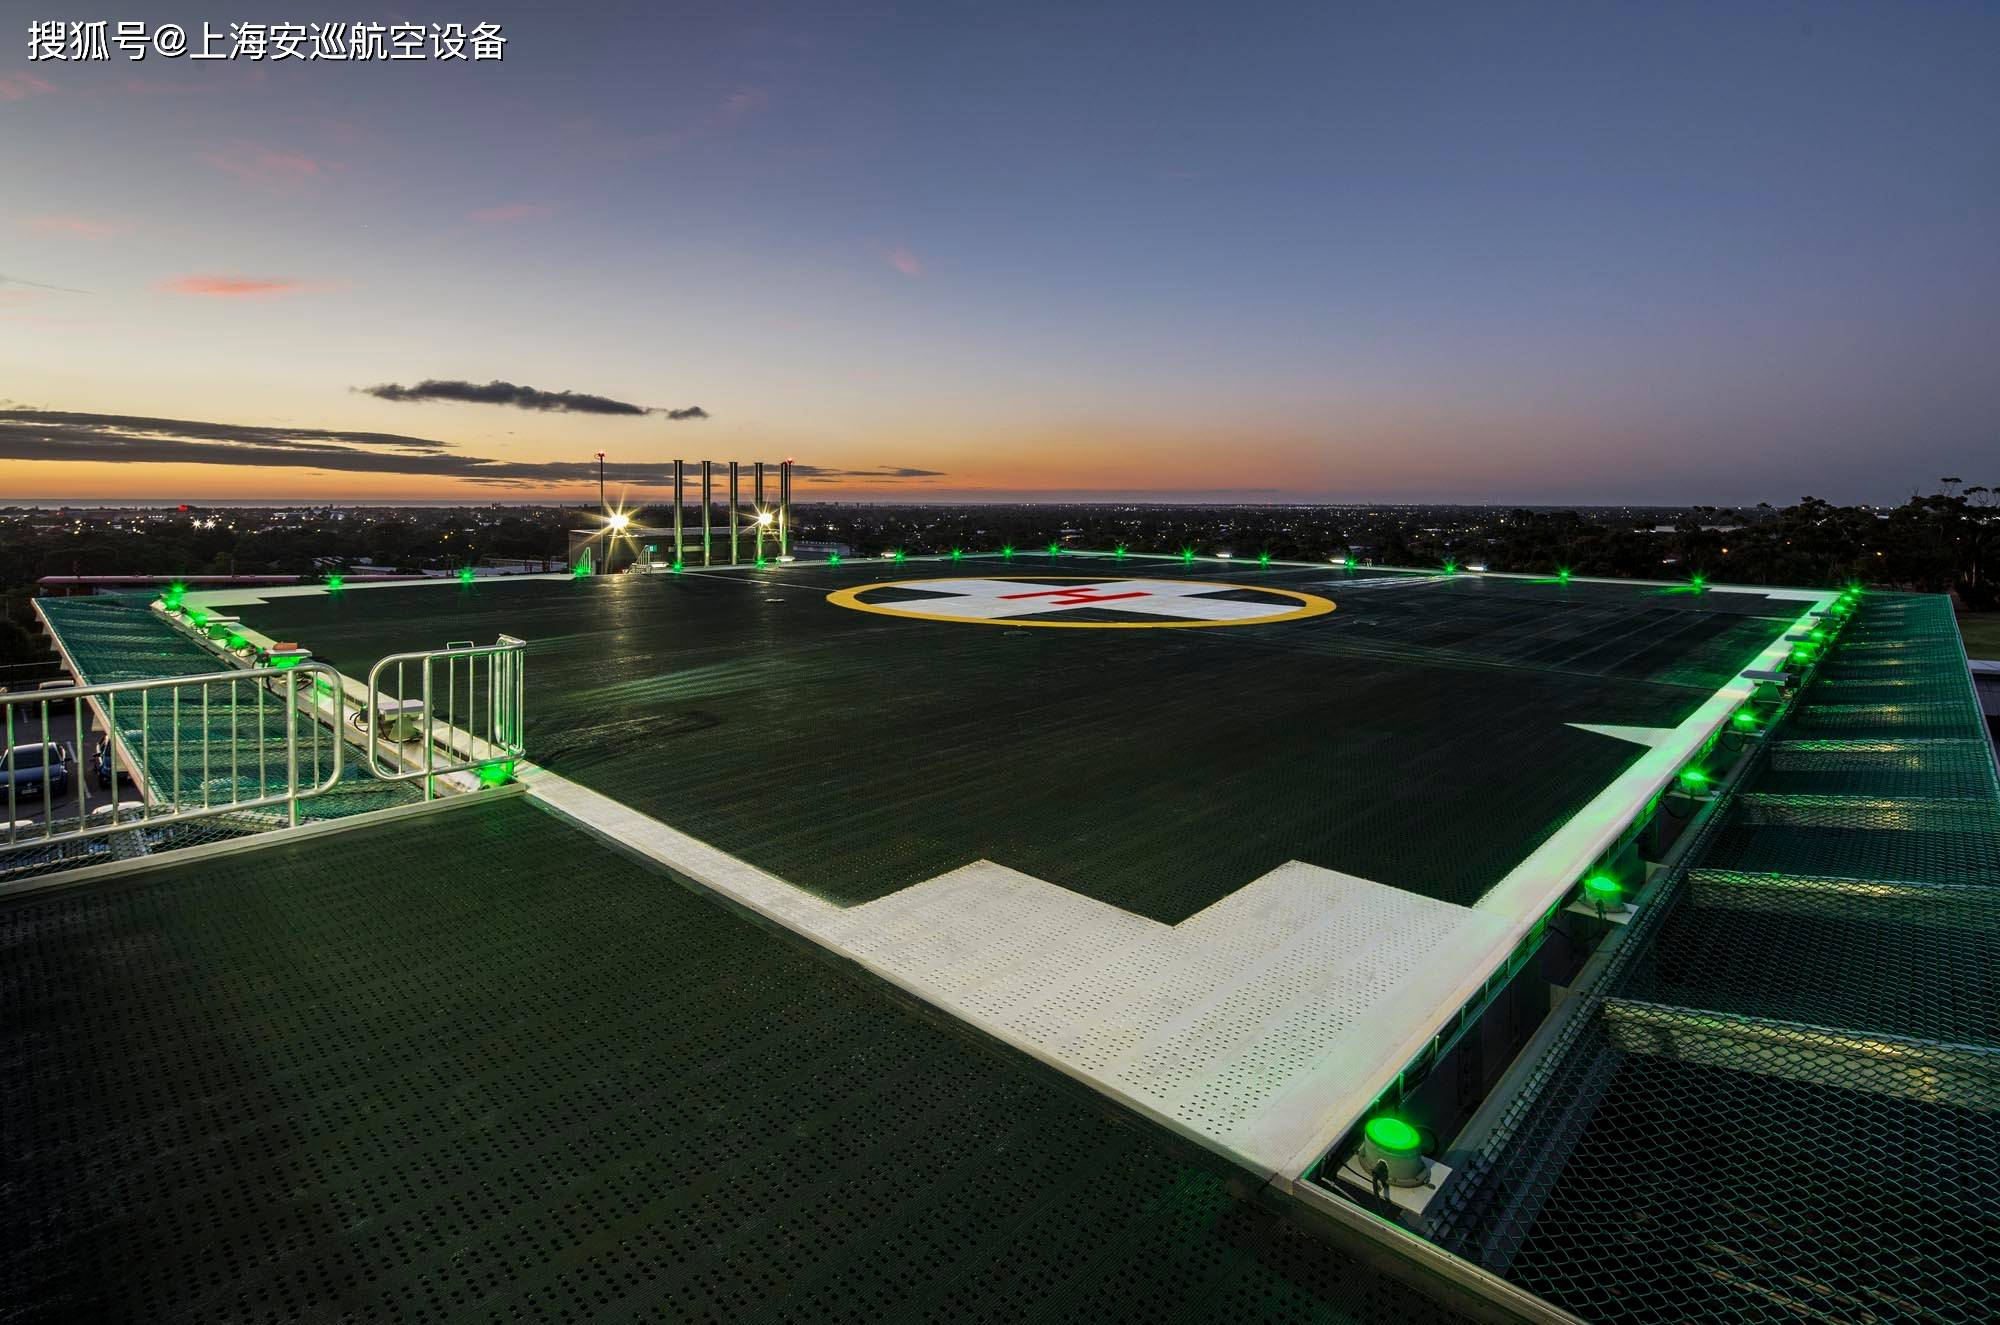H: (996, 587, 1156, 605)
